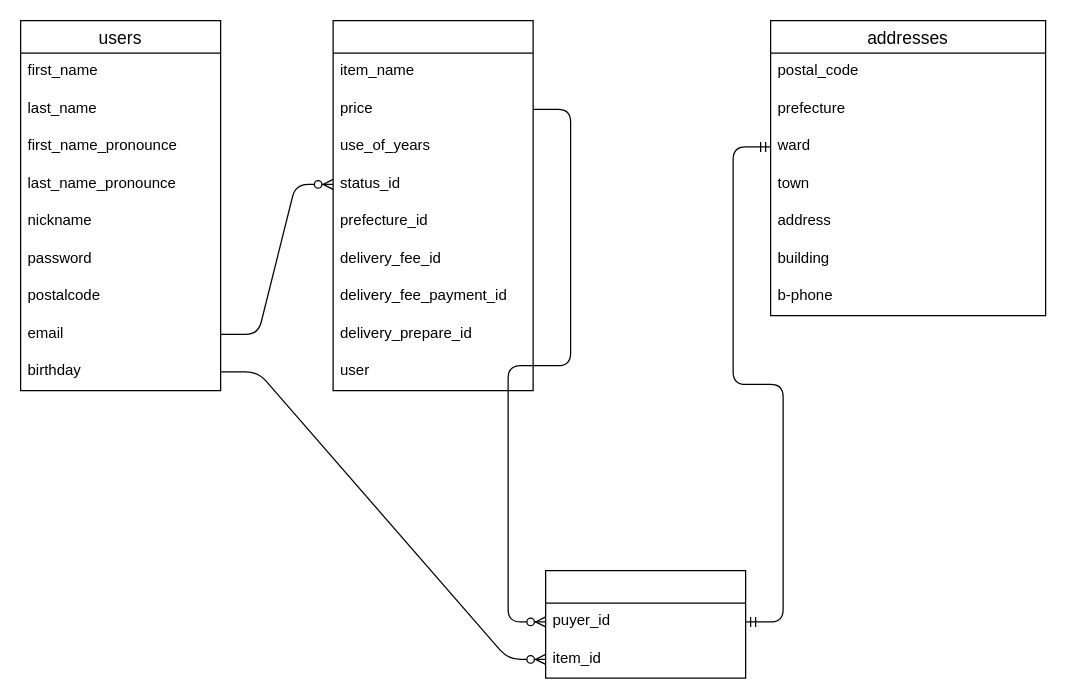
Some shapes in this 1066 by 699 pixel diagram are drawn without their labels. Here are the shapes that lost their labels. From the top down, the box of each, then its label:
(332, 19, 533, 391): items
(544, 569, 746, 678): purchases
